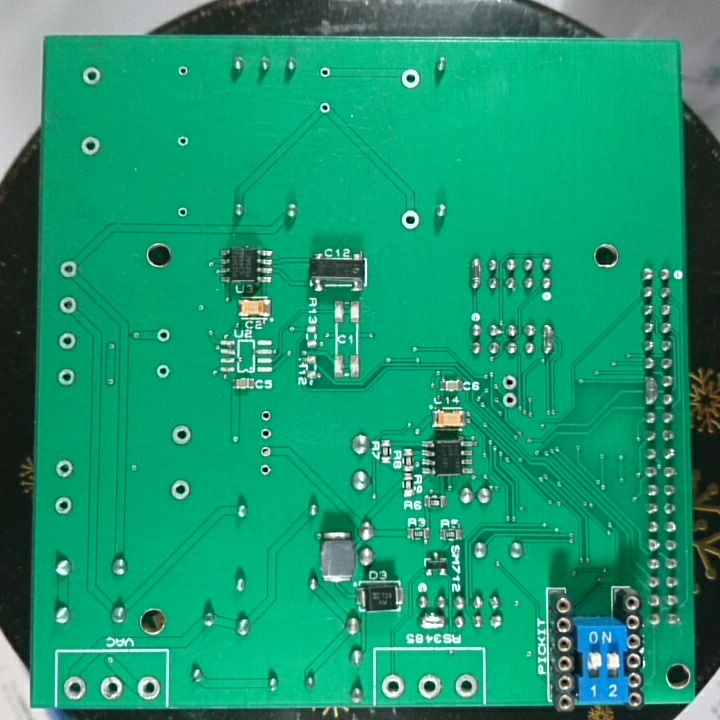F: (95, 673, 125, 704), (379, 672, 408, 702), (61, 672, 88, 703), (134, 673, 161, 703), (453, 671, 479, 700), (417, 672, 442, 700), (398, 208, 423, 232), (170, 422, 193, 448), (80, 63, 103, 88), (399, 66, 422, 90), (79, 135, 103, 158), (168, 478, 191, 502), (55, 329, 78, 352), (54, 457, 76, 481), (57, 258, 80, 280), (57, 366, 78, 389), (57, 294, 79, 315), (52, 493, 71, 516), (499, 371, 519, 392), (500, 391, 519, 411), (257, 458, 274, 480), (257, 440, 275, 460), (154, 325, 171, 346), (257, 423, 275, 442), (154, 360, 171, 380), (175, 62, 191, 81), (317, 63, 334, 80), (174, 203, 190, 221), (257, 408, 275, 423), (175, 133, 191, 149), (317, 99, 331, 115)
P: (540, 321, 556, 358), (417, 610, 446, 630), (468, 254, 484, 289), (642, 374, 659, 406)
